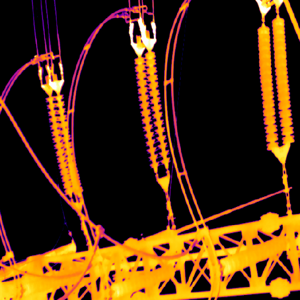insulator: (255, 21, 278, 150), (272, 18, 295, 140), (219, 235, 287, 276), (56, 92, 81, 195), (147, 51, 169, 165), (47, 96, 72, 195), (135, 55, 156, 168), (109, 263, 176, 297)
